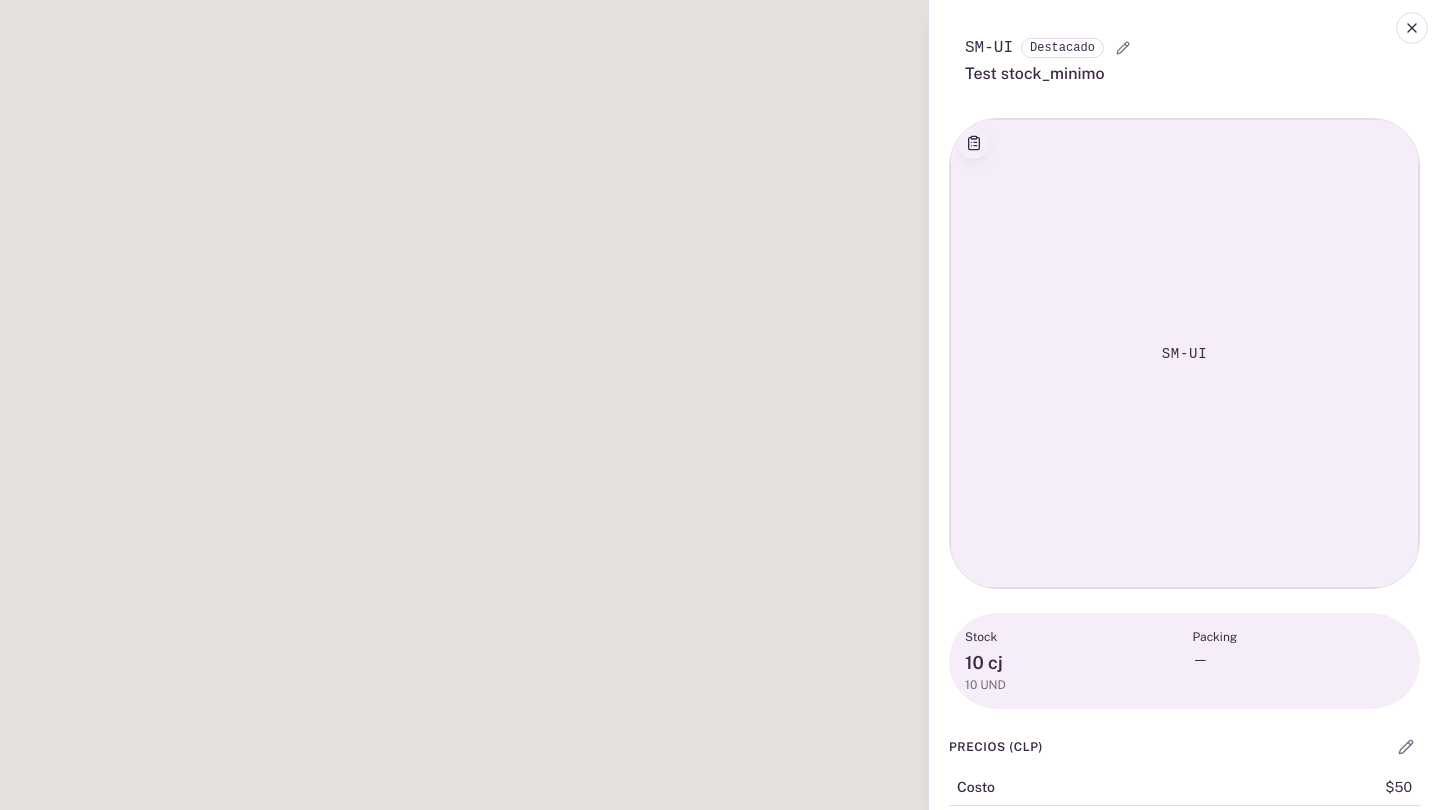
Test: T7-A — ProductDrawer stock_minimo sync › abre drawer con stock_minimo=10 → label "Stock minimo" visible en edicion
The width and height of the screenshot is (1440, 810).
Click the button titled "Editar producto" at (1406, 747), box [1392,733,1420,761]
(page scrolled)
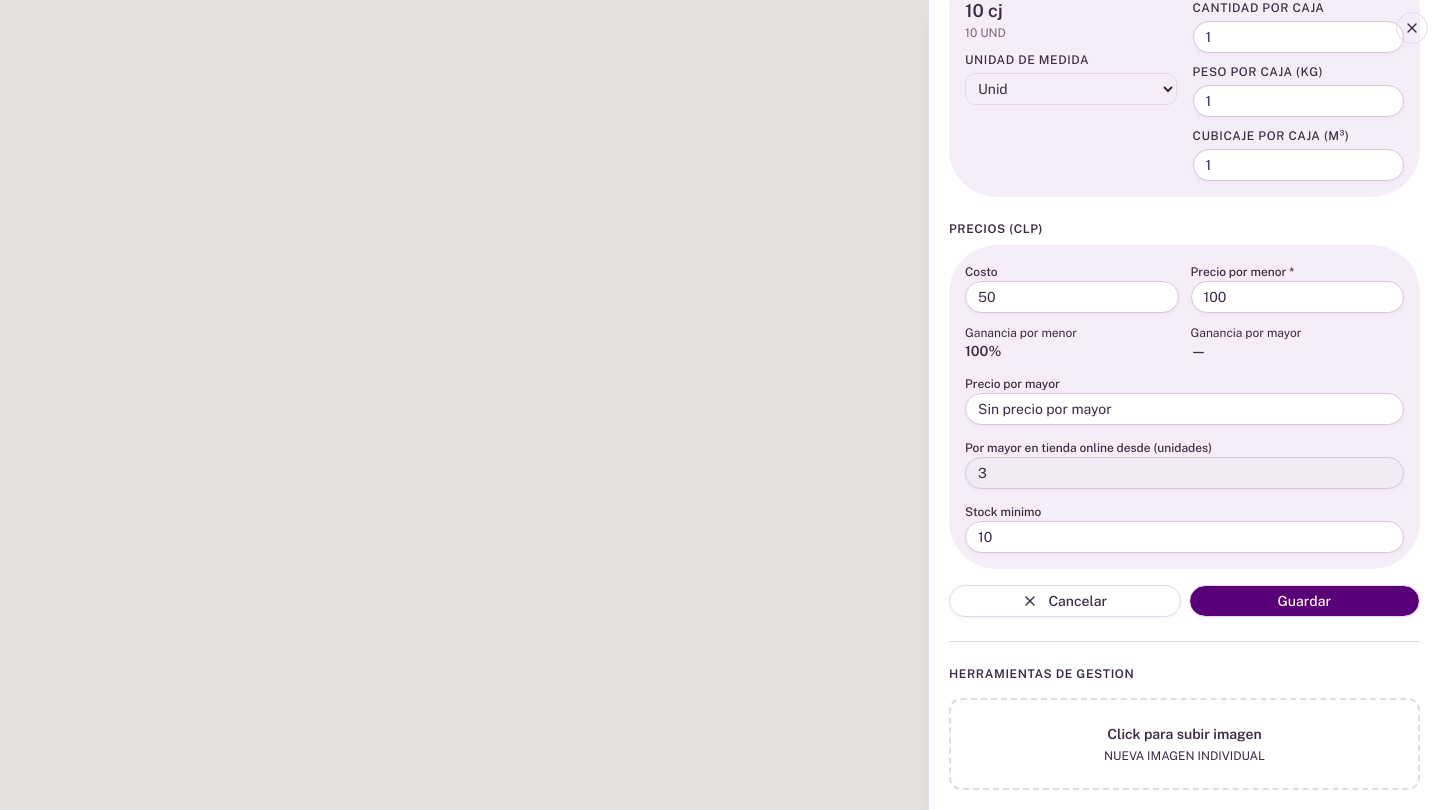
Result: the text "Stock minimo" is shown at [965,505,1041,519]
